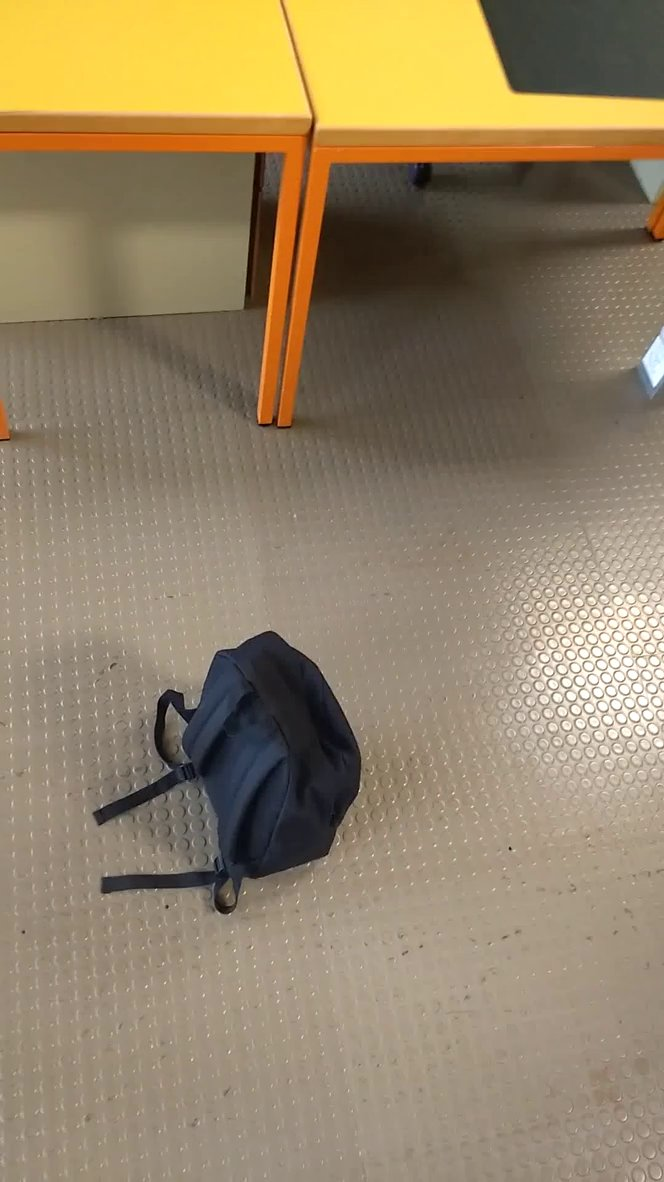bag: (82, 622, 380, 928)
